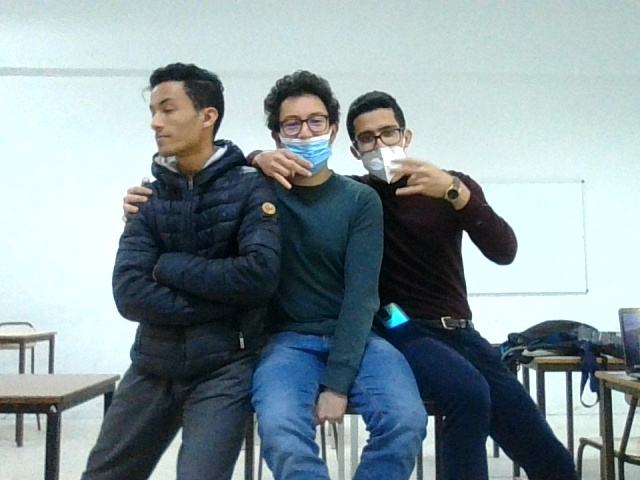mask_weared_incorrect: (261, 71, 345, 178), (347, 96, 420, 188)
without_mask: (139, 65, 247, 179)
